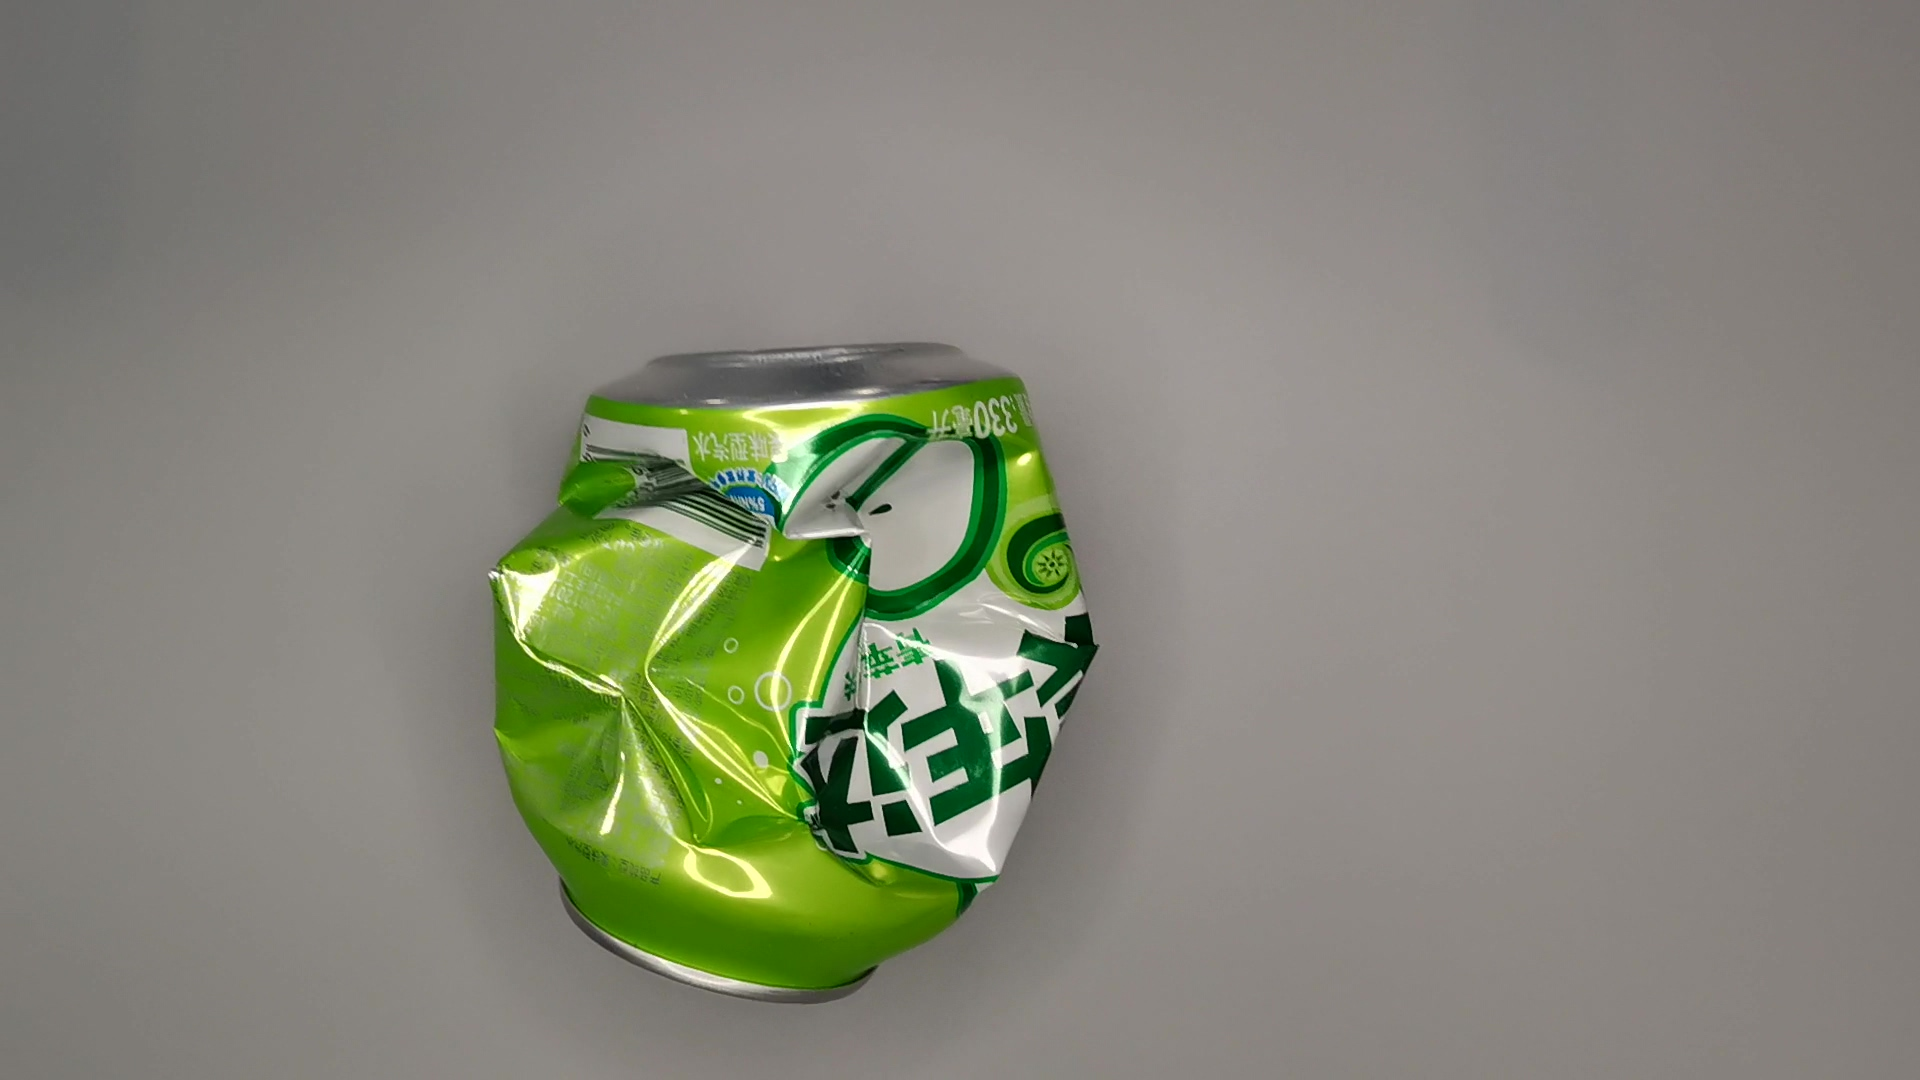can: (496, 330, 1106, 1011)
